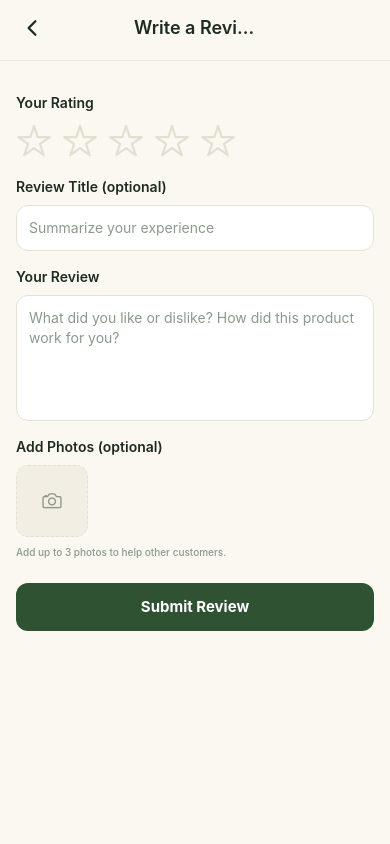
Test case: WriteReviewScreen › submits a trimmed review, then shows a thank-you view and navigates back
The width and height of the screenshot is (390, 844).
Step 1. Click the button named "Rate 4 stars" → {"x": 173, "y": 141}, box [154, 121, 192, 161]
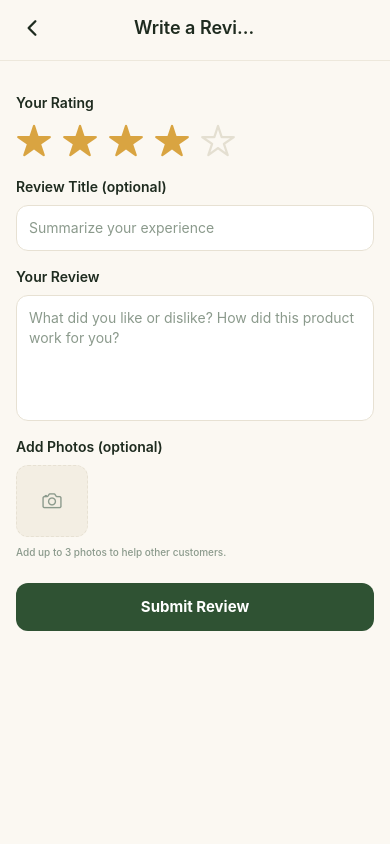
Step 2. Type "  Great product  " into the field with placeholder "Summarize your experience" → {"x": 195, "y": 228}, box [16, 205, 374, 251]
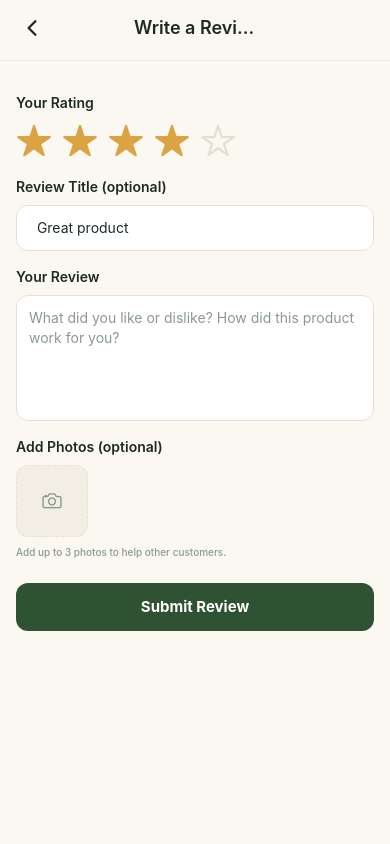
Step 3. Replace the text in the text box with placeholder "What did you like or dislike? How did this product work for you?" with "  Really helped my digestion over the month.  " → {"x": 195, "y": 358}, box [16, 295, 374, 421]
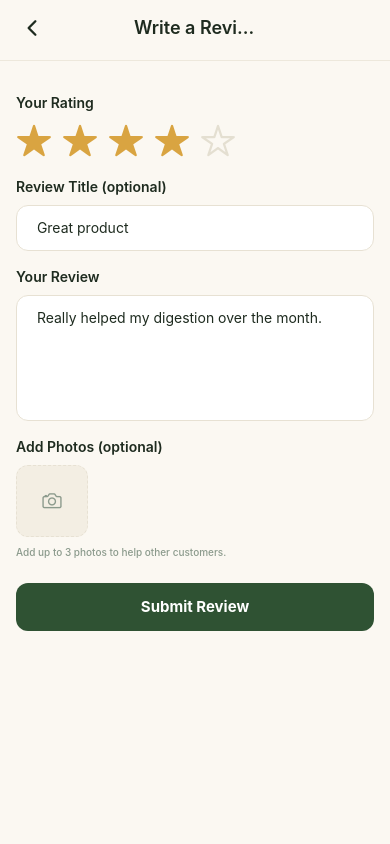
Step 4. Click the button "Submit Review" → {"x": 195, "y": 607}, box [16, 583, 374, 631]
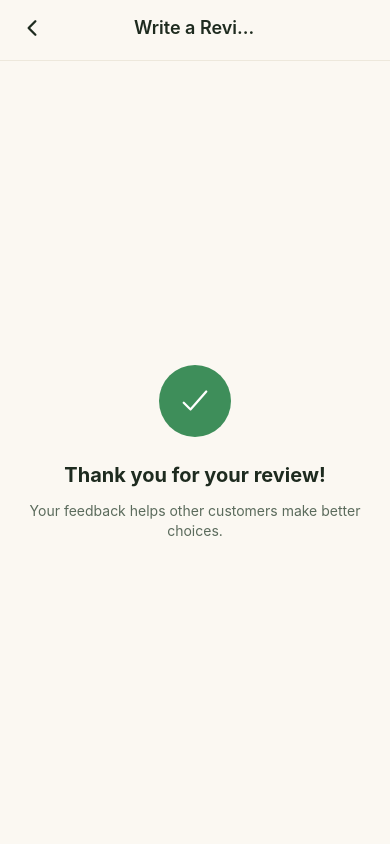
Expected: the text "Thank you for your review!" is shown, [64, 460, 326, 488]
